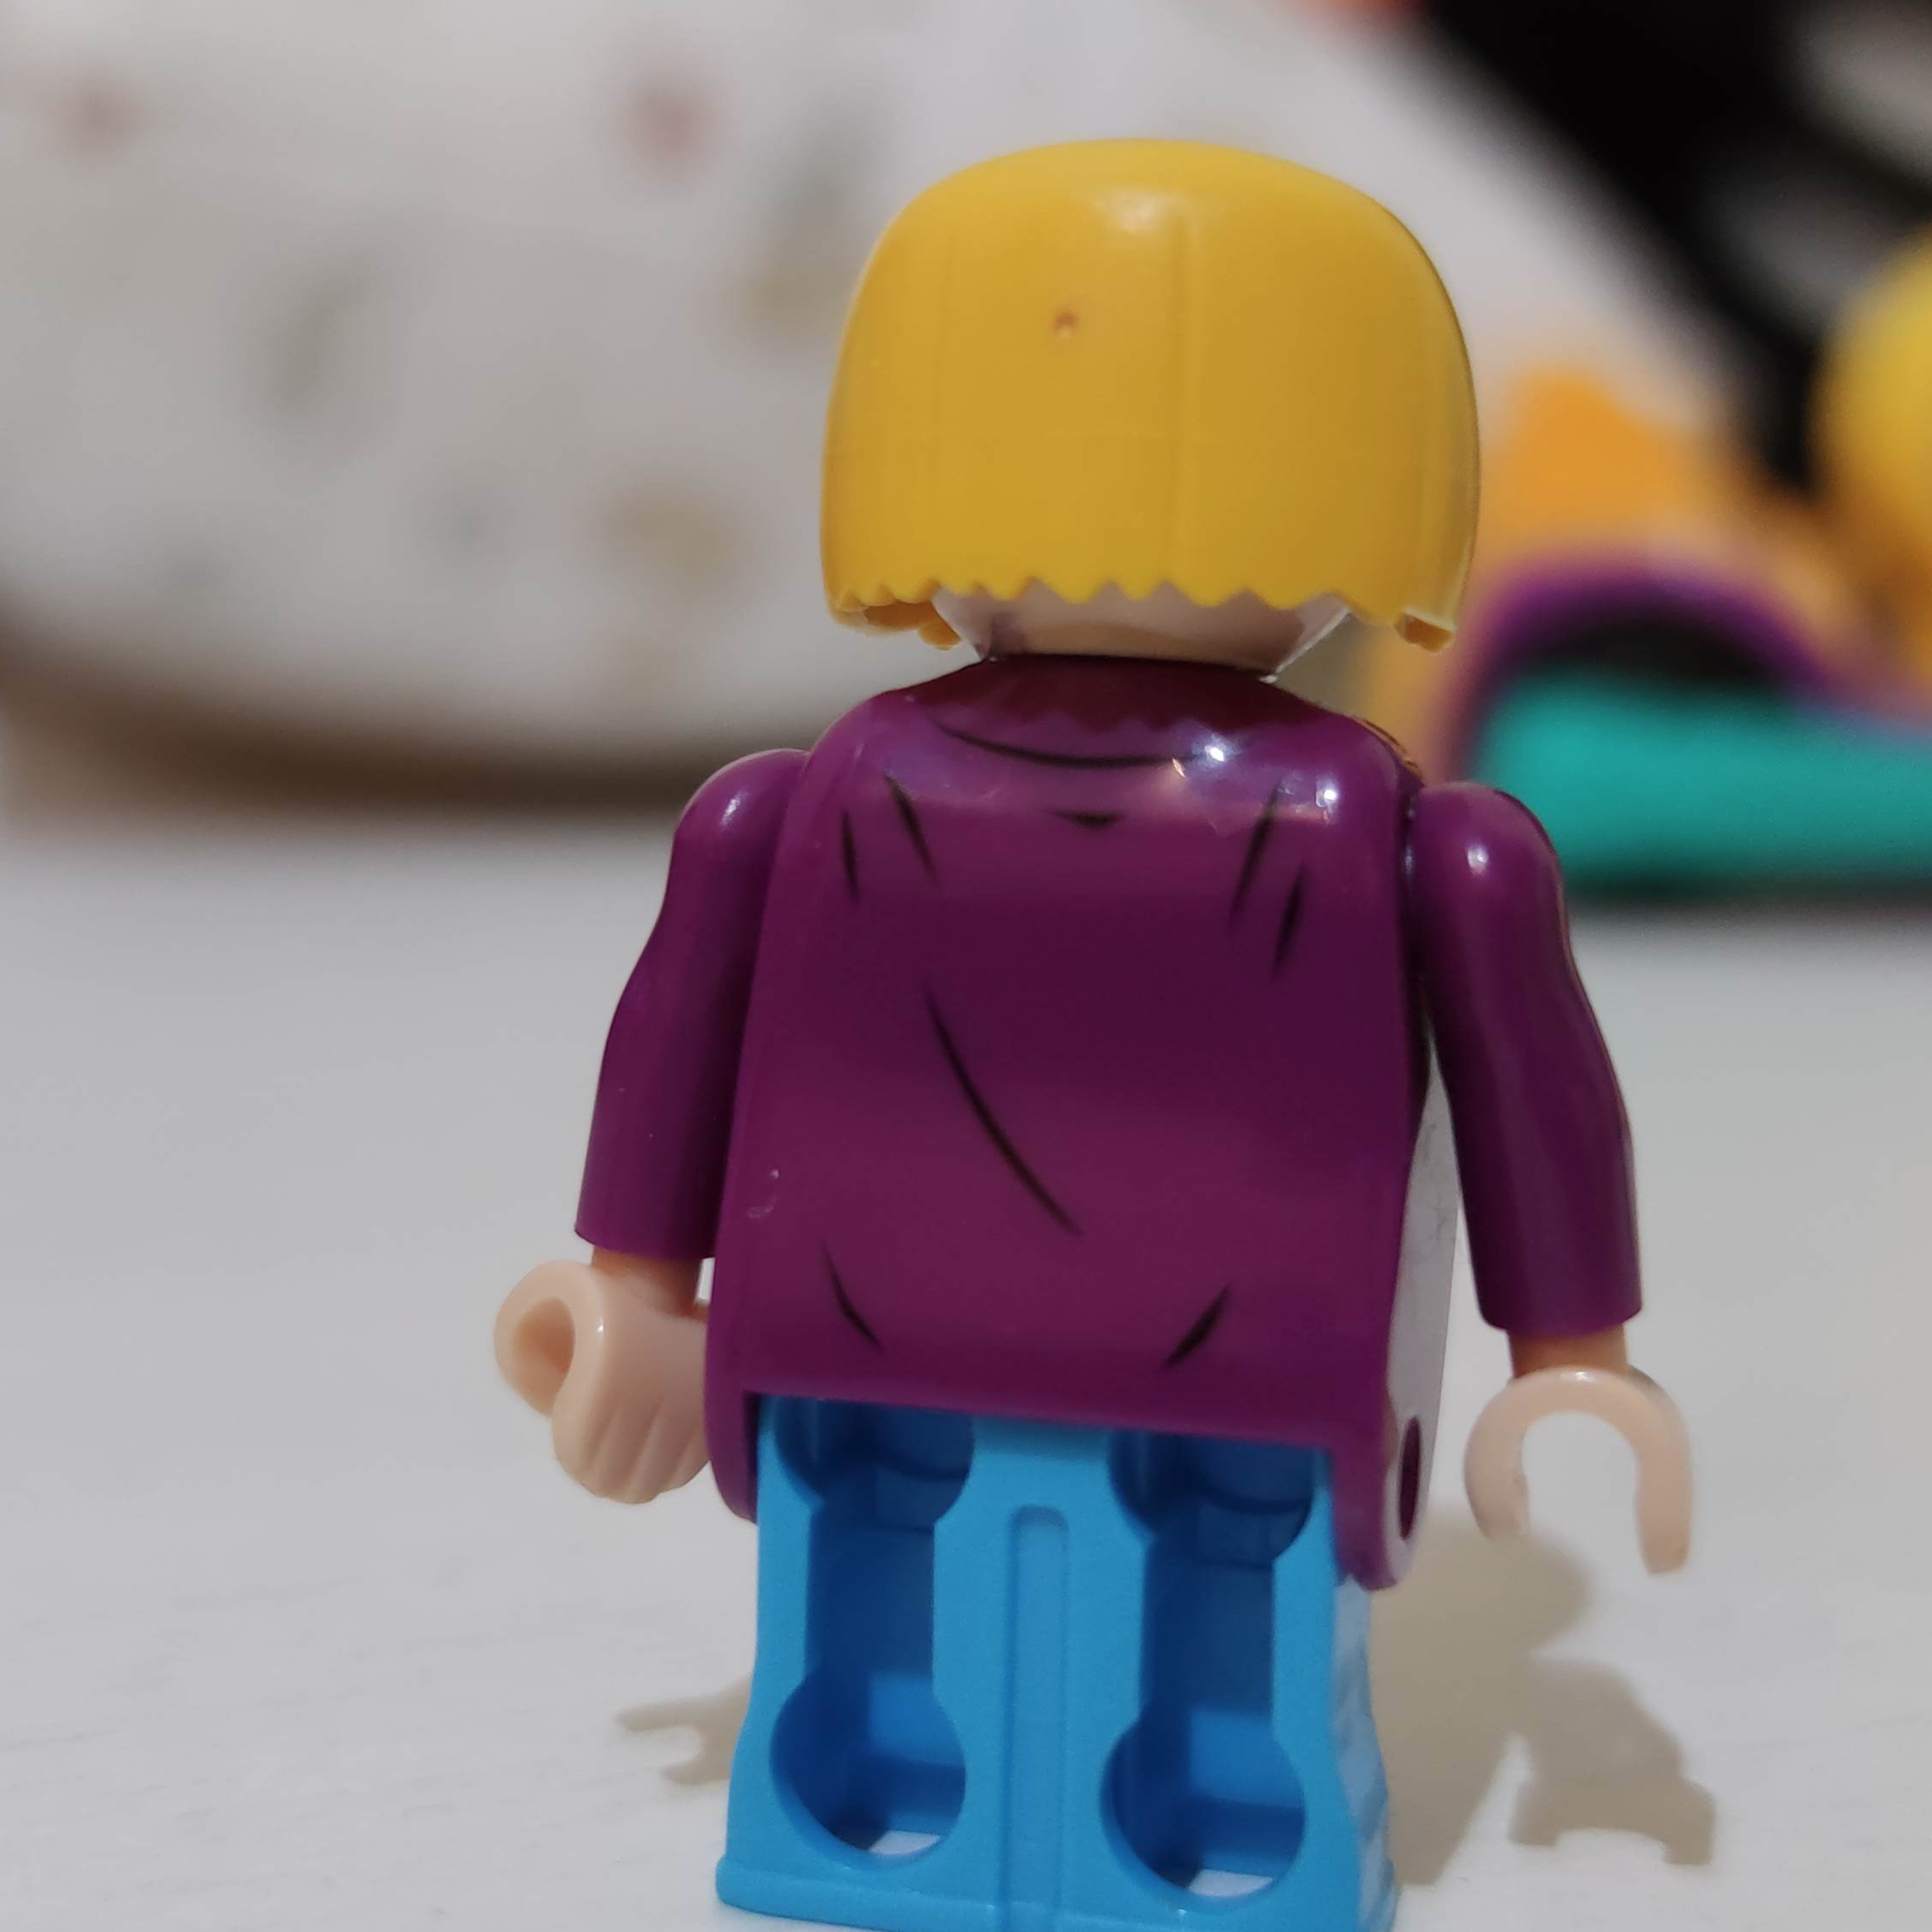lego: (492, 140, 1693, 1932)
